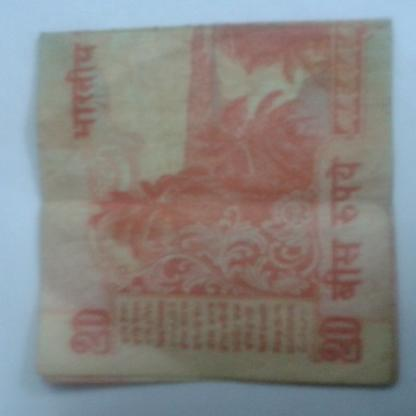Old20Back: (36, 18, 399, 389)
